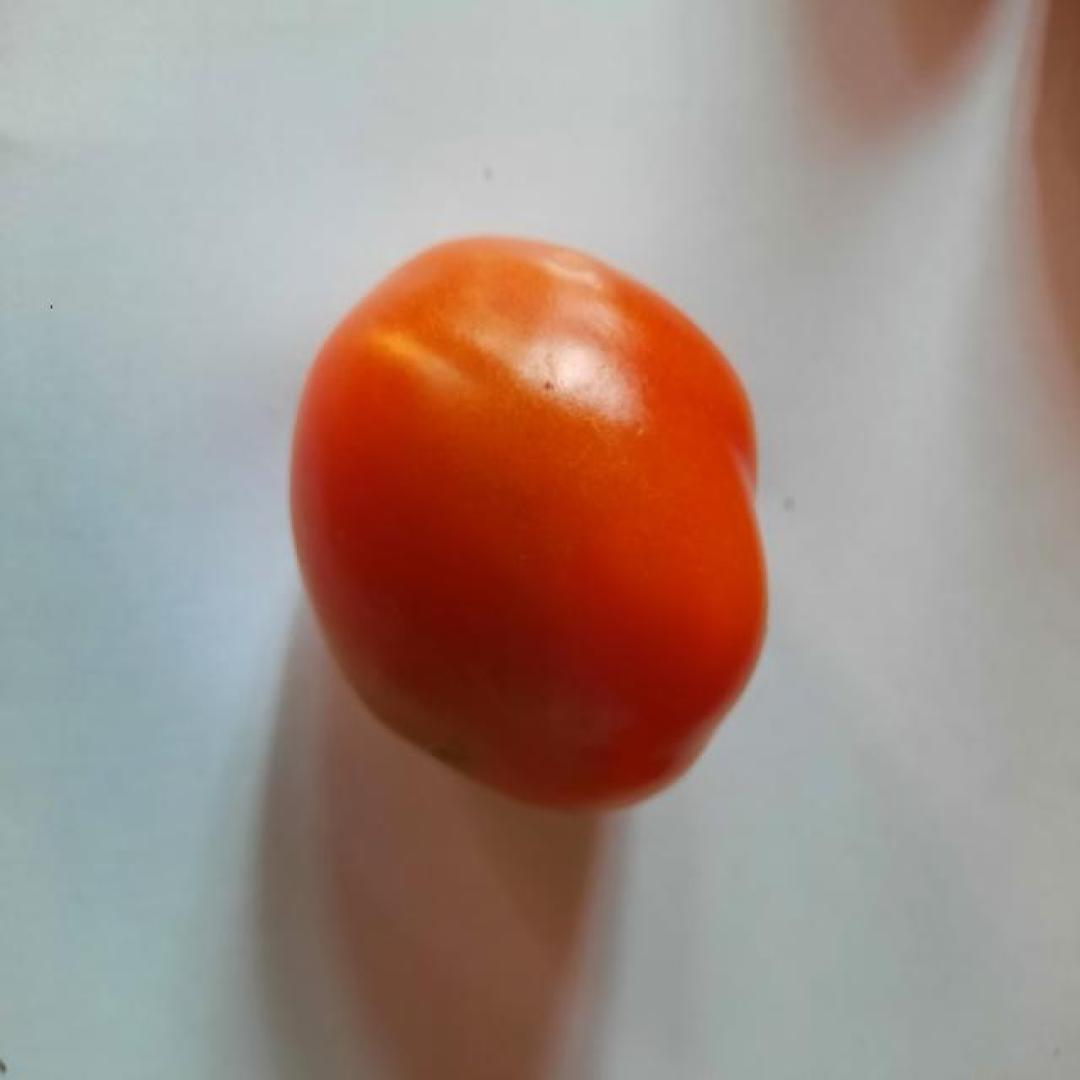matang: (288, 233, 773, 815)
